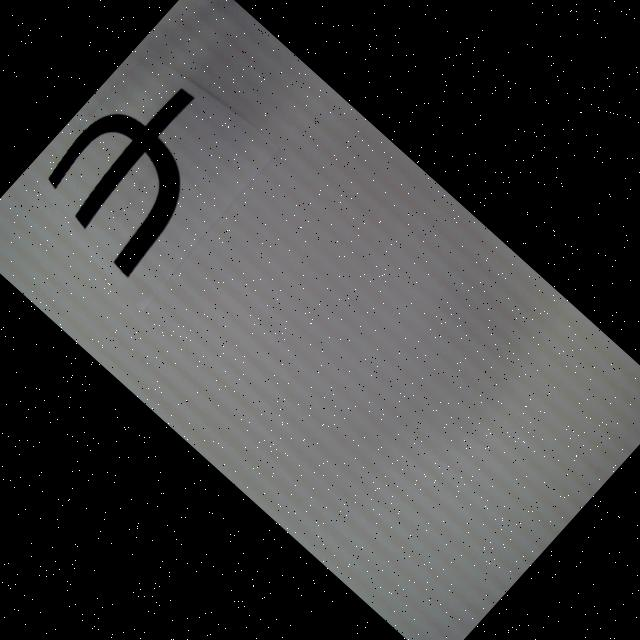PSI: (29, 56, 248, 279)
